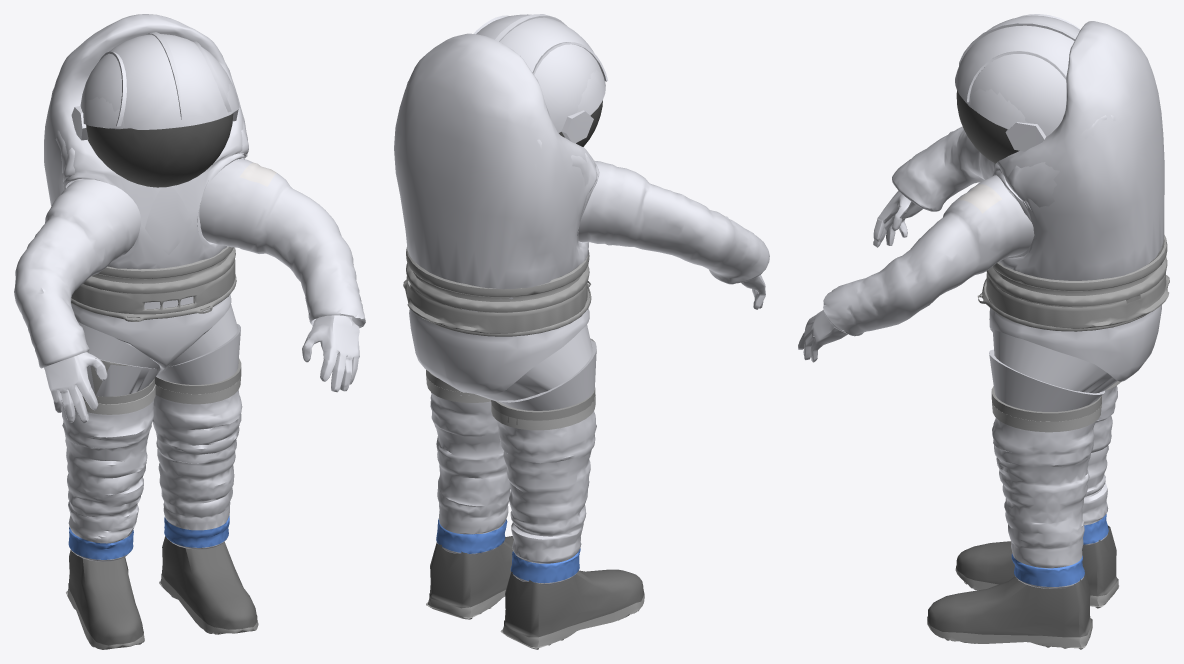
The model's file is mark3_lod0.glb.
3 views of the same model, side by side, from view 1: azimuth 30°, elevation 25°; view 2: azimuth 150°, elevation 25°; view 3: azimuth 270°, elevation 25° (orthographic). The views are drawn at different scales.
Visible parts, largest first — view 1: mark3_lod0; view 2: mark3_lod0; view 3: mark3_lod0.
Boxes of the visible parts, x1,y1,x2,y2 form: mark3_lod0: (14,14,365,649); mark3_lod0: (394,14,769,649); mark3_lod0: (798,14,1169,649).
Bounding box in the file's own units: 1.11 × 1.99 × 1.13.
